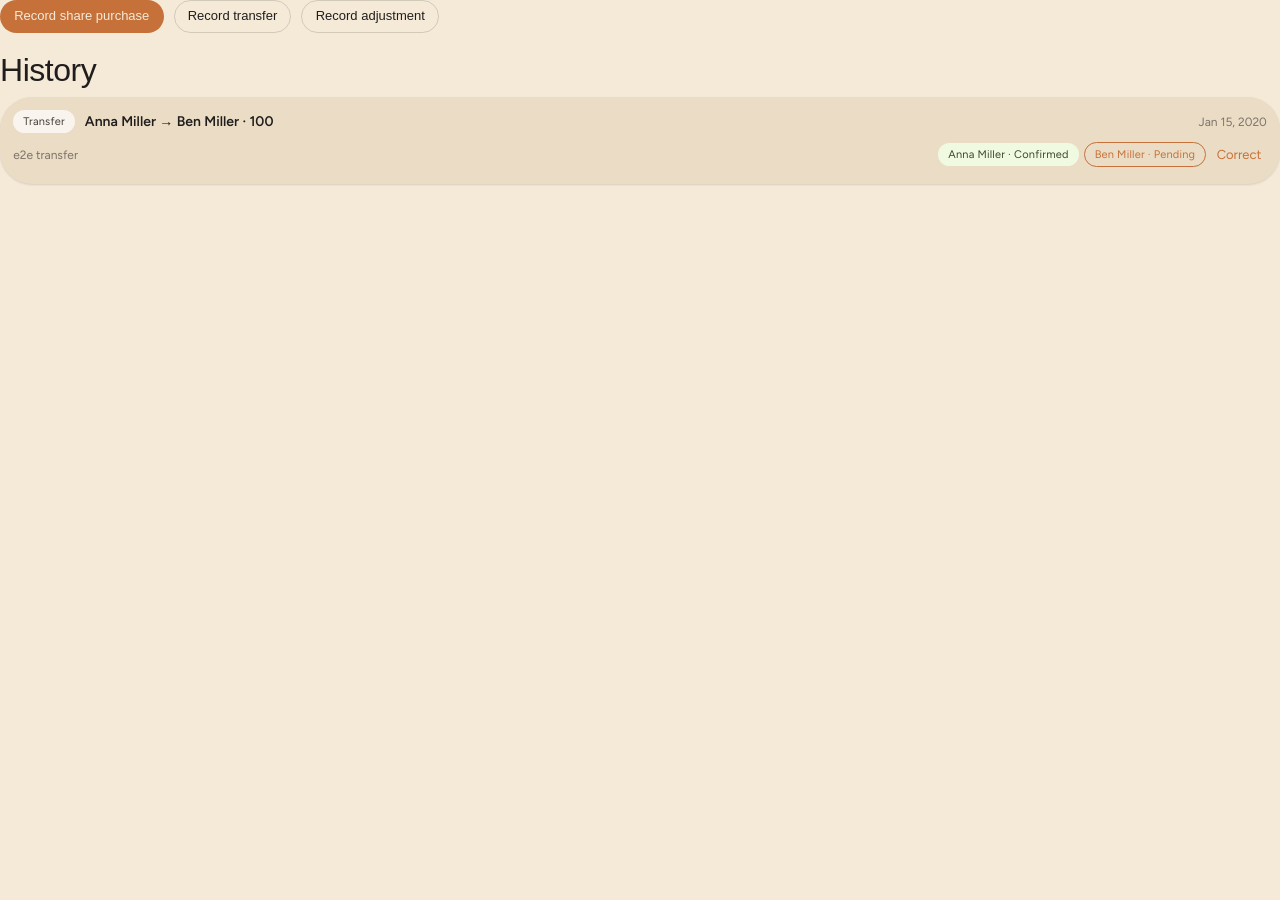
Test: CAP-037 Transaction dates and fiscal year — the forms › CAP-037 · Share transactions default to today (Record share purchase)
This screenshot has width=1280, height=900.
Click the button "Record share purchase" at (82, 16), box [0,0,164,32]
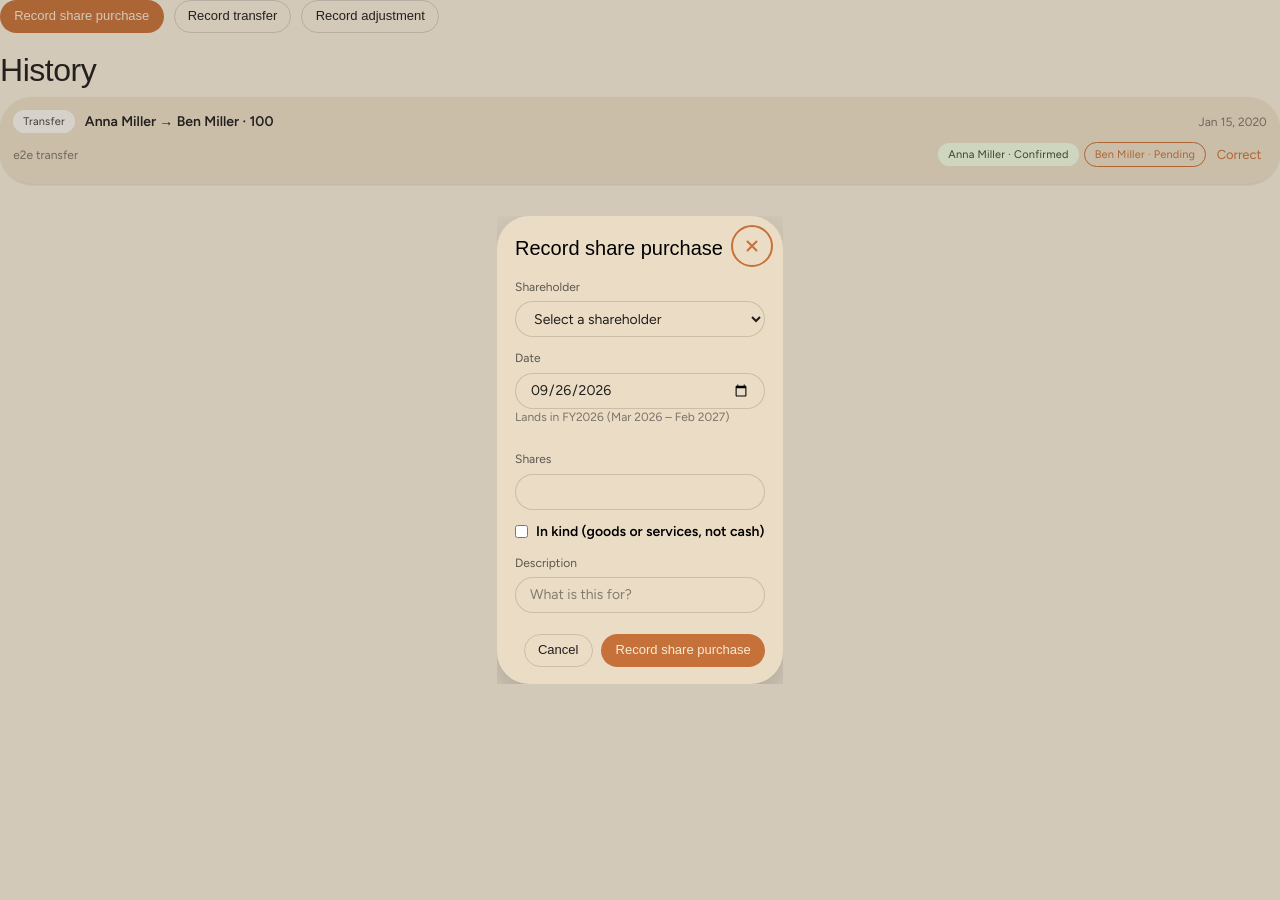
Expected: the date field labelled "Date" holds "2026-09-26", [515,373,765,409]
Expected: the text "Lands in FY2026 (Mar 2026 – Feb 2027)" is shown, [515,409,765,425]
